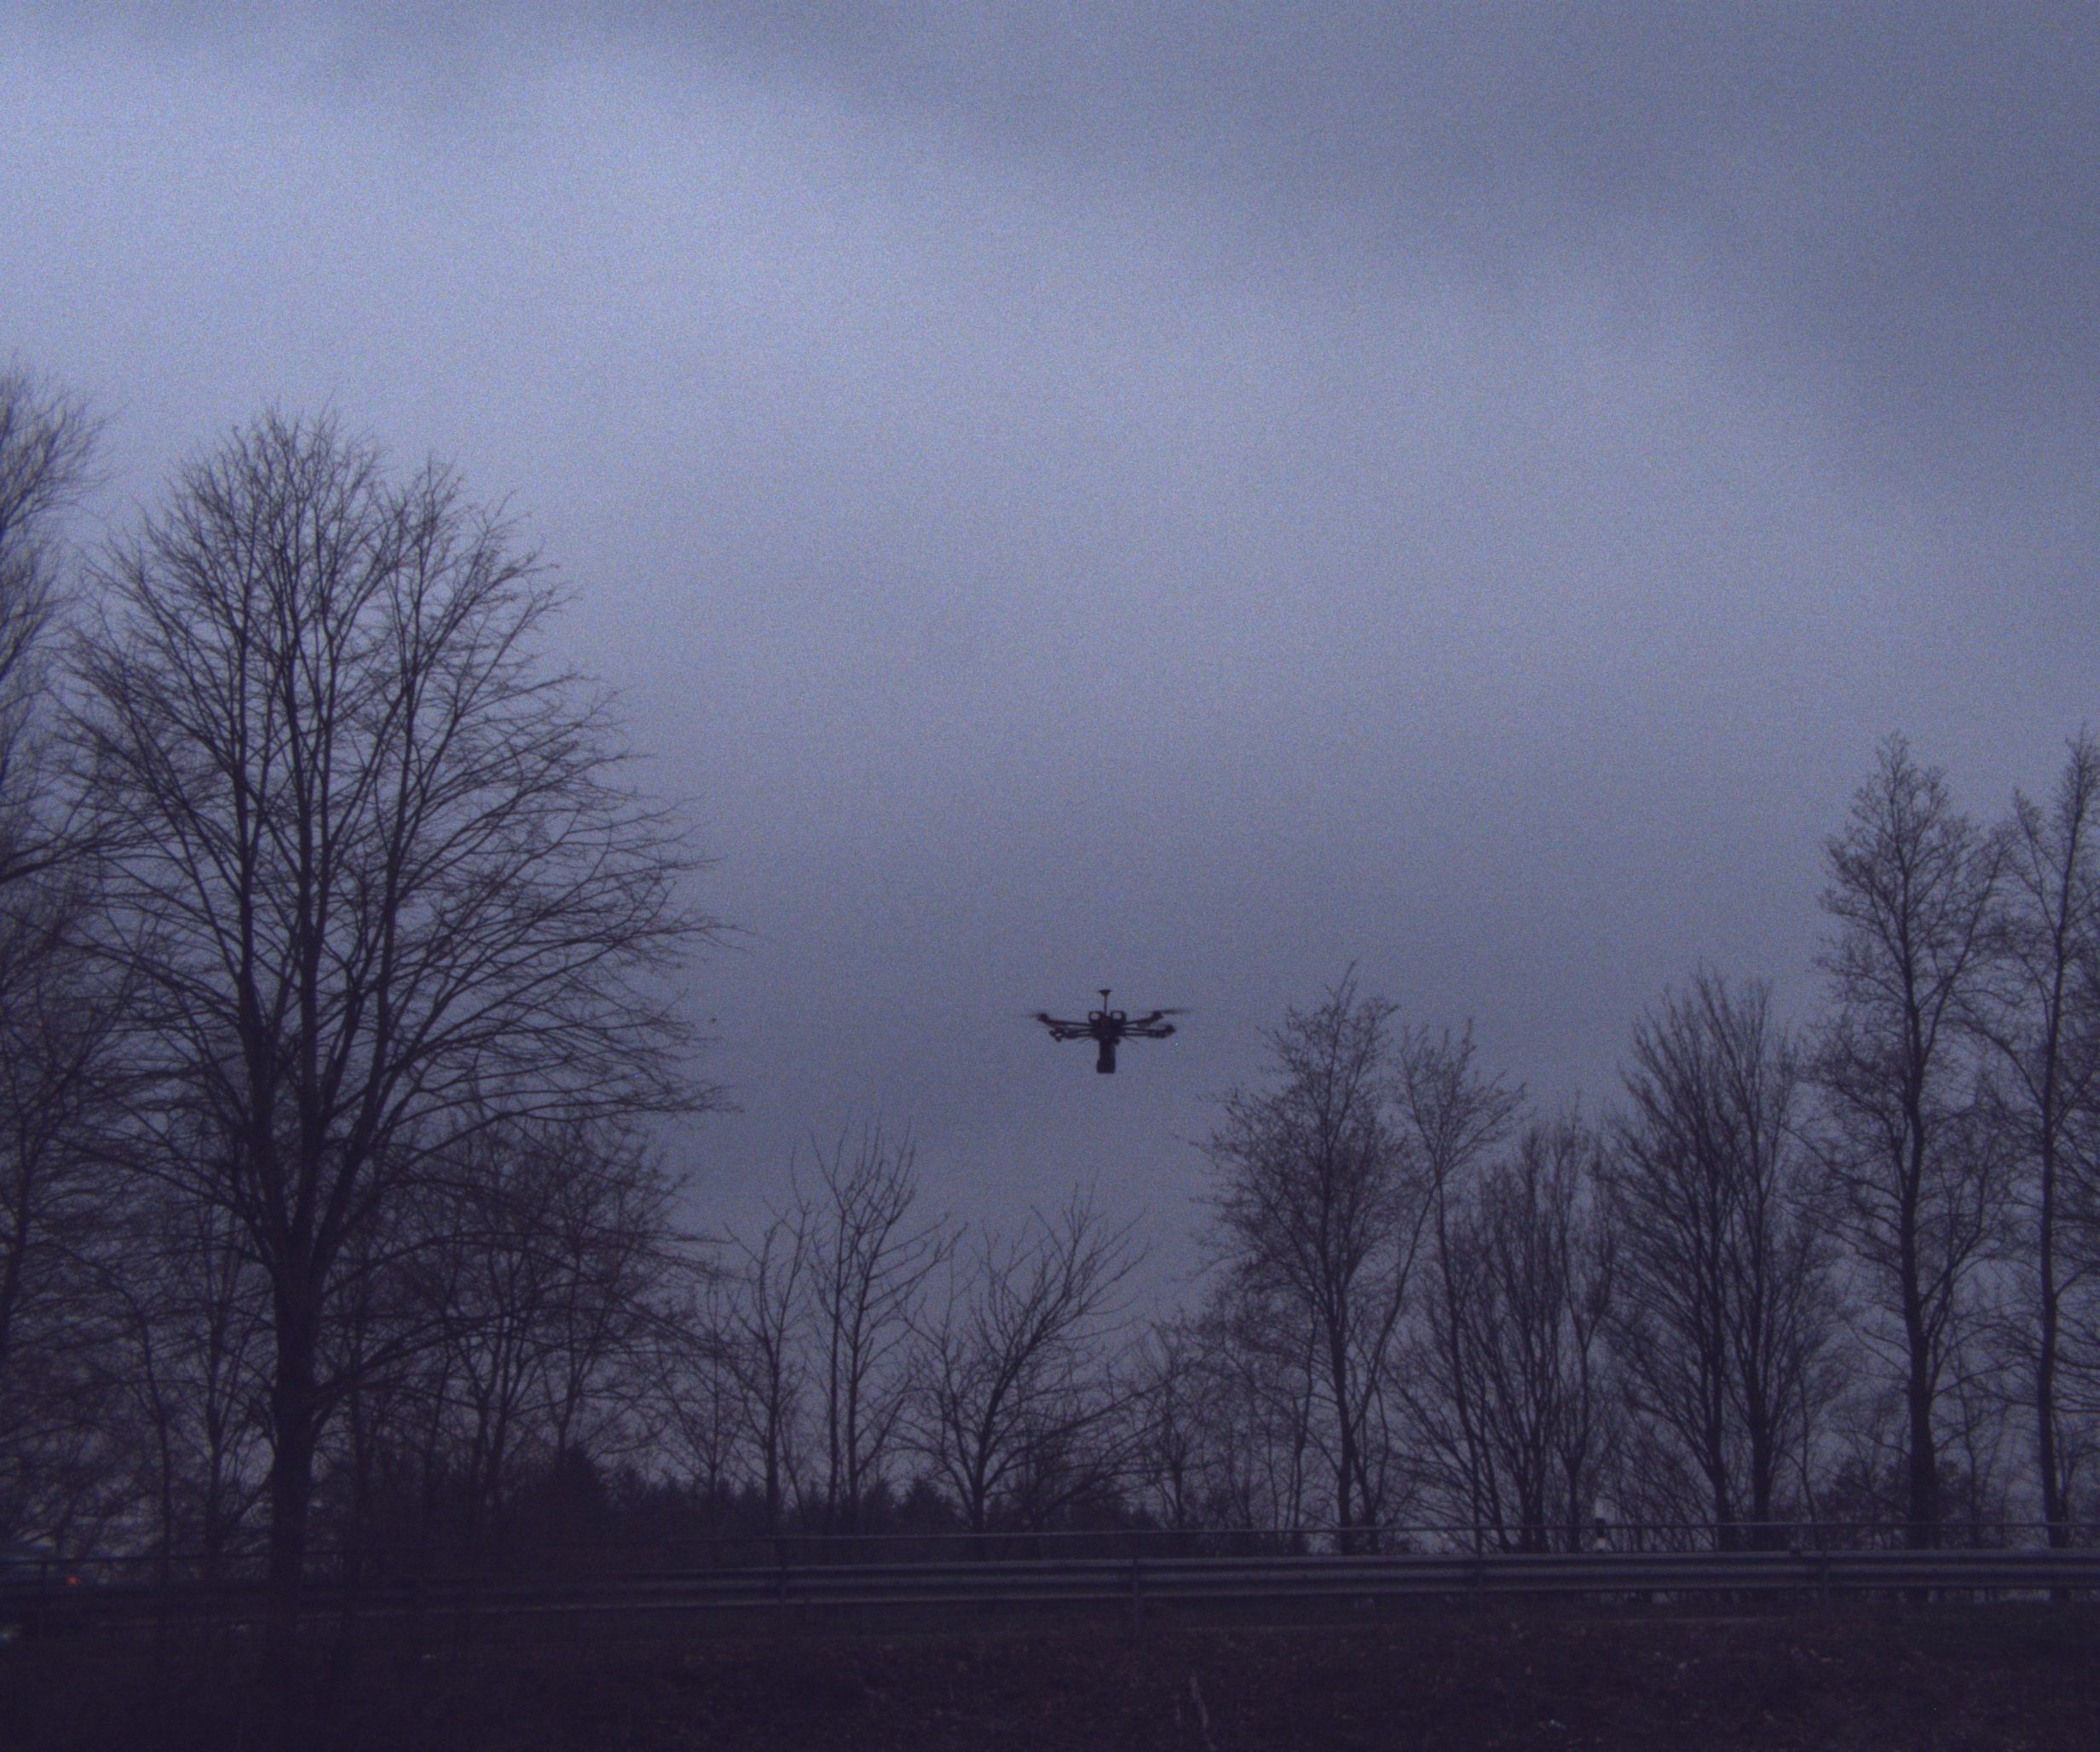Drohne: (1013, 974, 1254, 1144)
